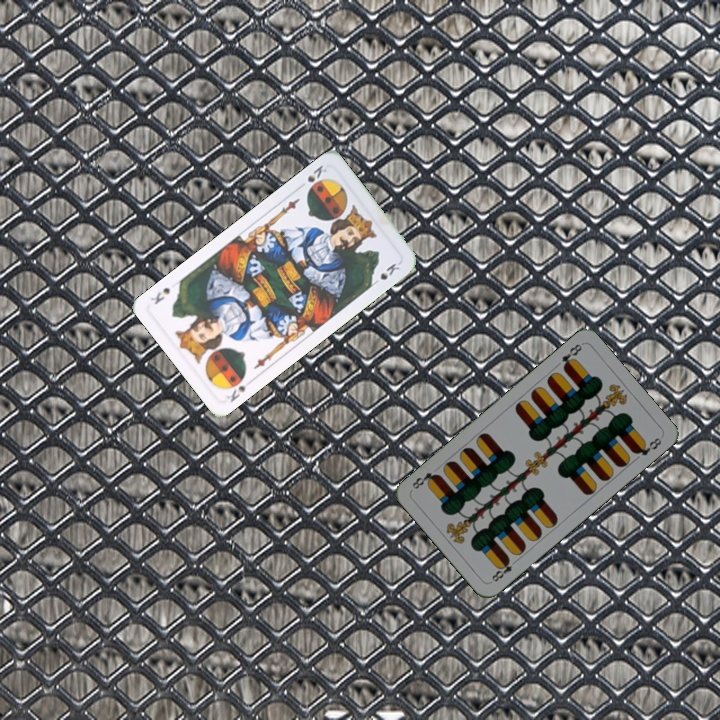E8: (486, 554, 521, 585), (557, 340, 585, 372)
SK: (223, 371, 256, 405), (294, 161, 329, 191)
